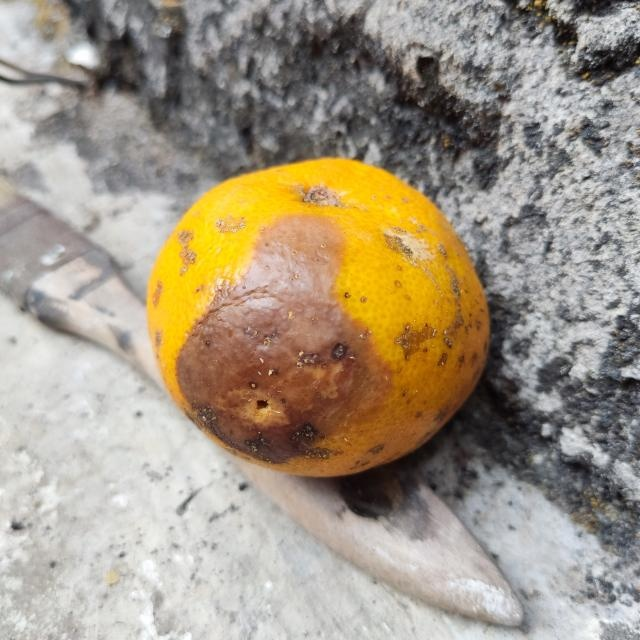agrume: (147, 156, 489, 478)
